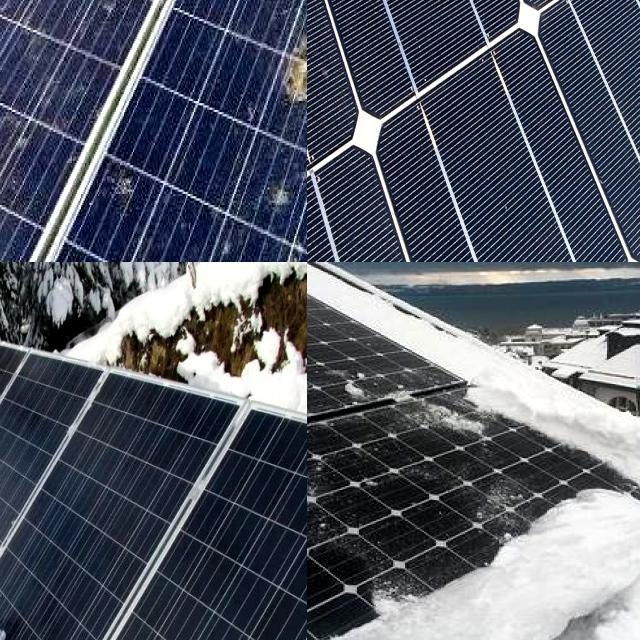bird: (278, 0, 307, 128)
crack: (335, 16, 640, 262), (307, 0, 530, 168), (519, 0, 640, 262), (439, 0, 640, 139)
panel: (434, 521, 640, 613), (0, 280, 67, 508), (338, 350, 484, 454), (307, 334, 378, 479), (498, 359, 608, 439), (537, 434, 640, 516), (0, 521, 48, 610), (307, 262, 356, 303)
